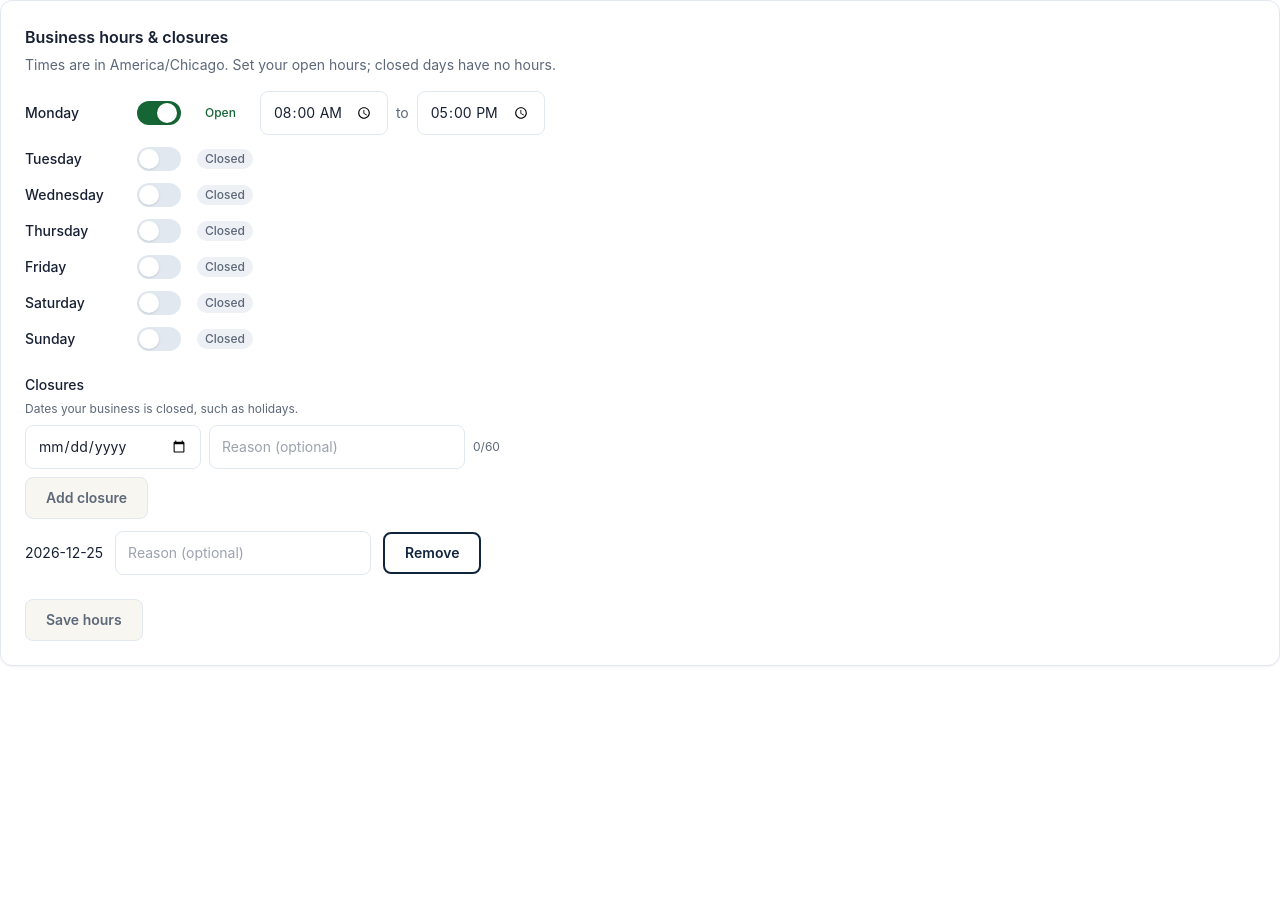
Test: CalendarSection › defaults a newly opened day to 09:00-17:00 and saves the full snapshot with the version
Check: the time field named "Monday opens at" is shown, box [260,91,388,135]
Step 1. Click the switch named "Open on Tuesday" → (159, 159), box [137,147,181,171]
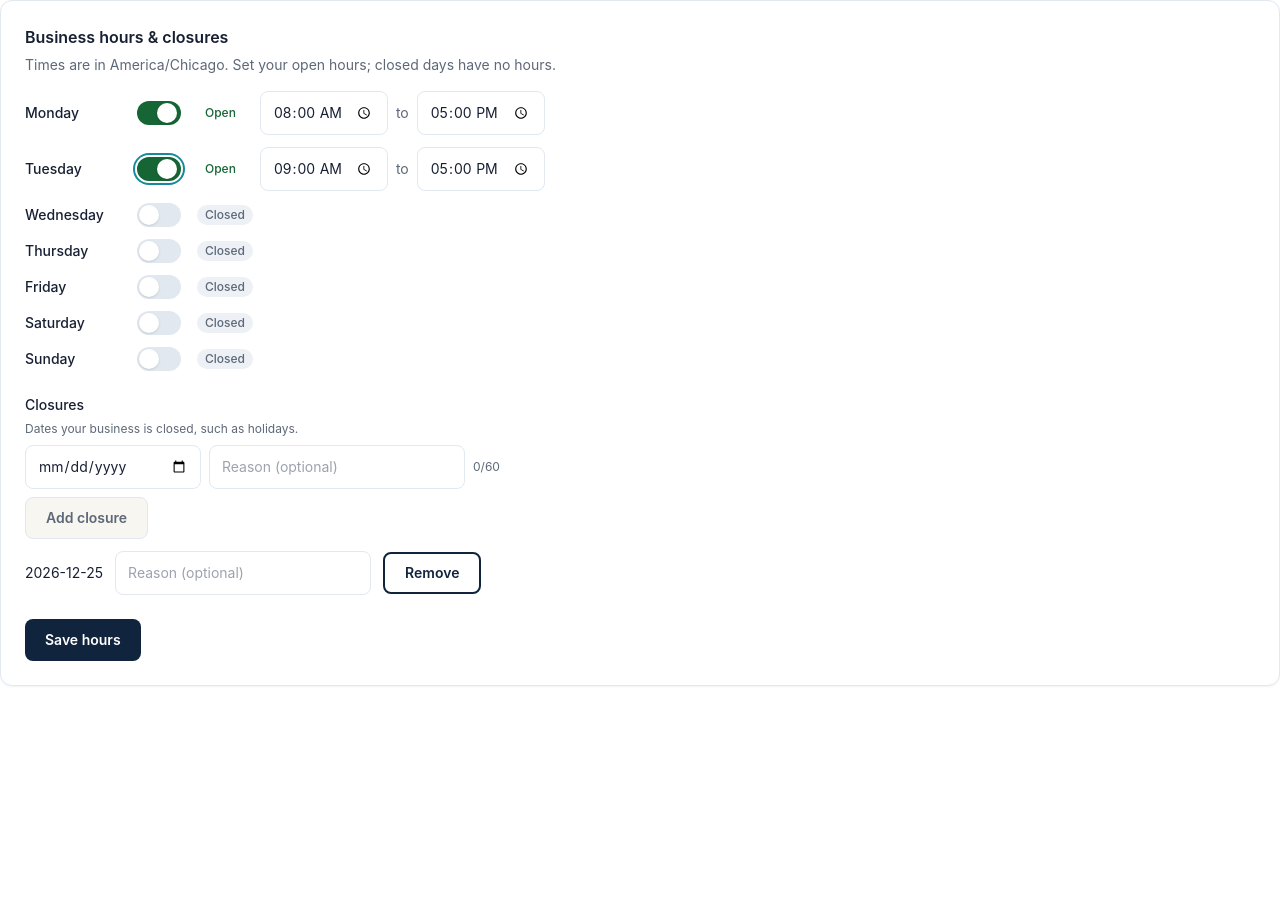
Check: the time field named "Tuesday opens at" holds "09:00", box [260,147,388,191]
Check: the time field named "Tuesday closes at" holds "17:00", box [417,147,545,191]
Step 2. Click the button "Save hours" → (83, 640), box [25,619,141,661]
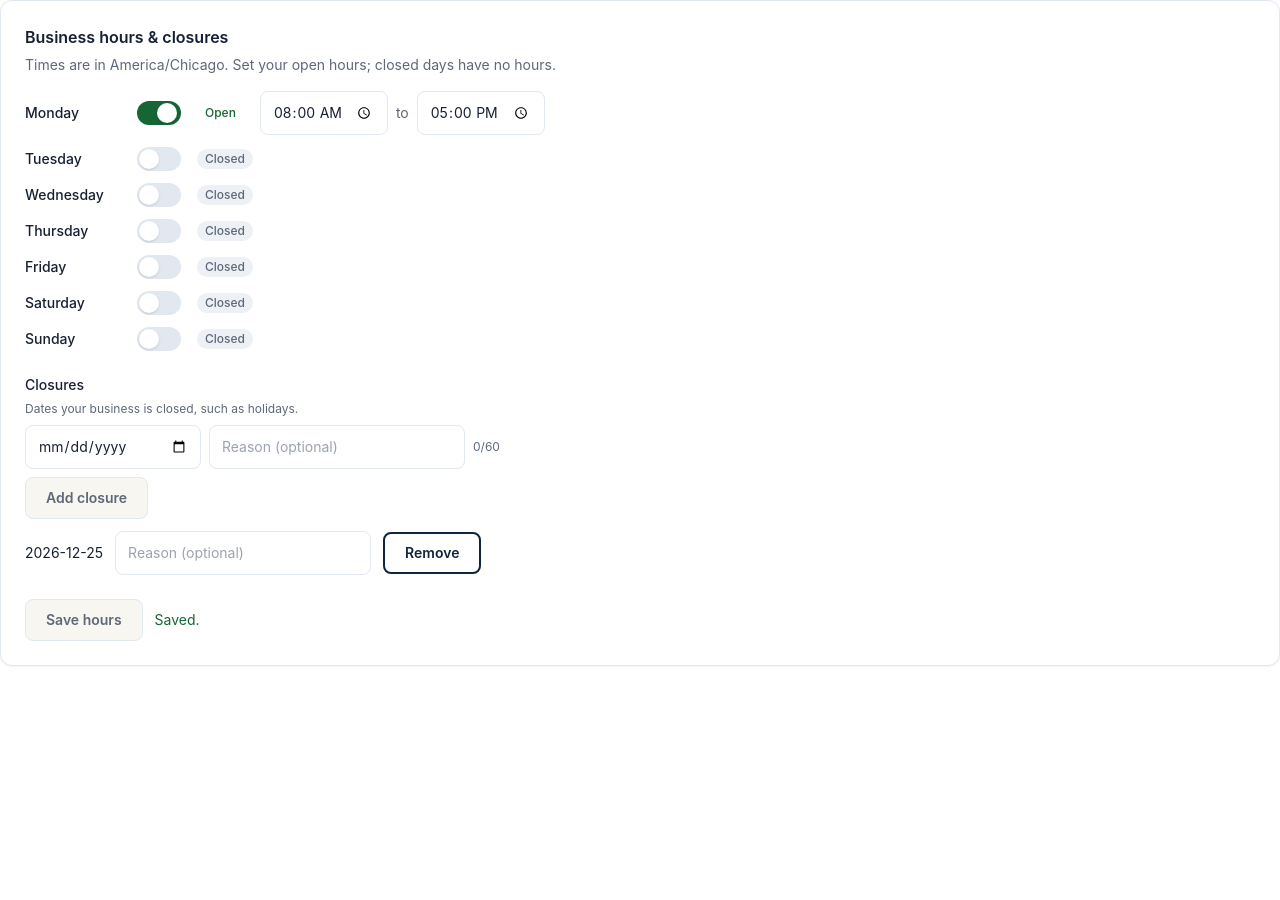
Check: the text "Saved." is shown, box [155,610,200,630]
